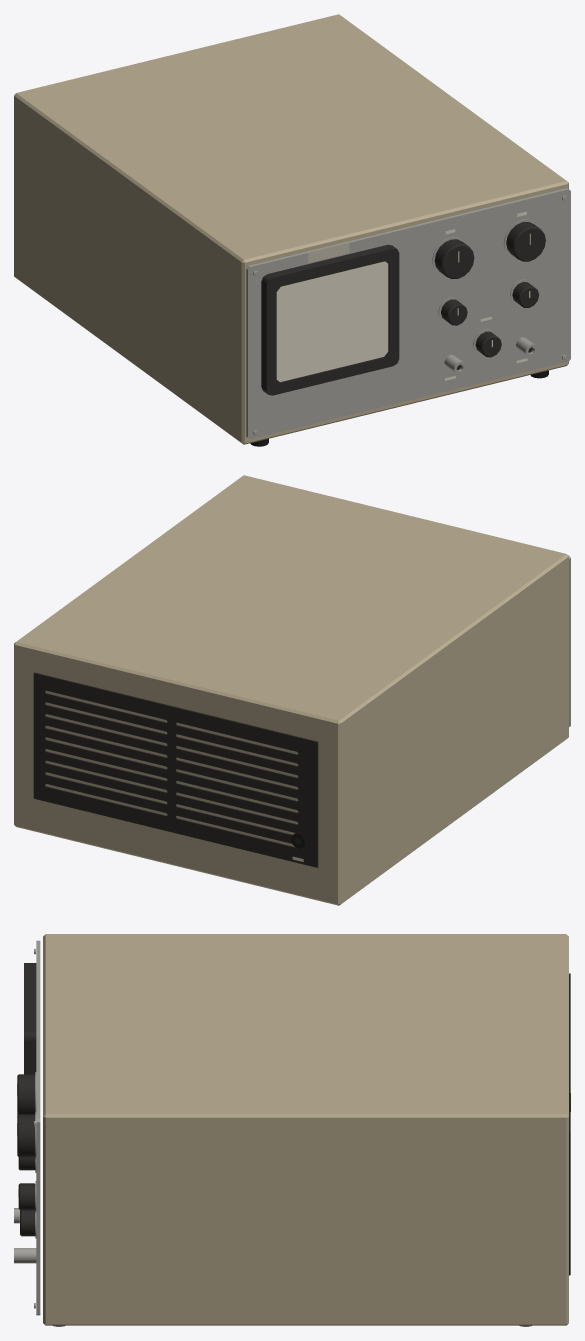
Rendered from oscilloscope-0b9c3b499c9d.glb.
3 views of the same model, one above another, from view 1: azimuth 30°, elevation 25°; view 2: azimuth 150°, elevation 25°; view 3: azimuth 270°, elevation 25° (orthographic). The views are drawn at different scales.
Parts seen in each view (by area): view 1: enamel-beige, brushed, decal-ink, plastic-dark; view 2: enamel-beige, plastic-dark; view 3: enamel-beige, plastic-dark, brushed.
Part boxes in pixels (x1,y1,x2,y2): enamel-beige: [14, 14, 568, 444]; brushed: [246, 188, 570, 439]; decal-ink: [276, 211, 527, 381]; plastic-dark: [261, 222, 545, 395]; enamel-beige: [14, 475, 568, 905]; plastic-dark: [33, 672, 318, 867]; enamel-beige: [43, 934, 568, 1325]; plastic-dark: [17, 963, 570, 1275]; brushed: [14, 940, 40, 1315].
Bounding box in the file's own units: 0.32 × 0.18 × 0.413.
